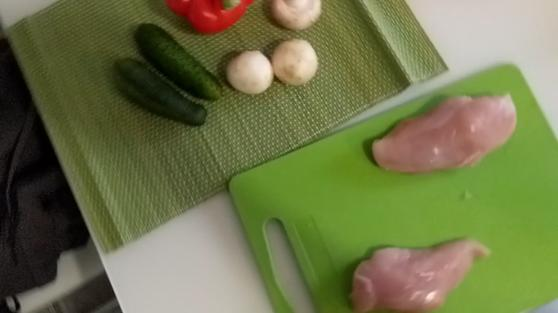champignon: (267, 38, 318, 87), (222, 45, 272, 92), (271, 1, 327, 31)
chicken_fillet: (364, 91, 522, 174), (346, 238, 495, 313)
cucumber: (134, 17, 225, 98), (120, 52, 215, 124)
pepper: (166, 1, 247, 33)
